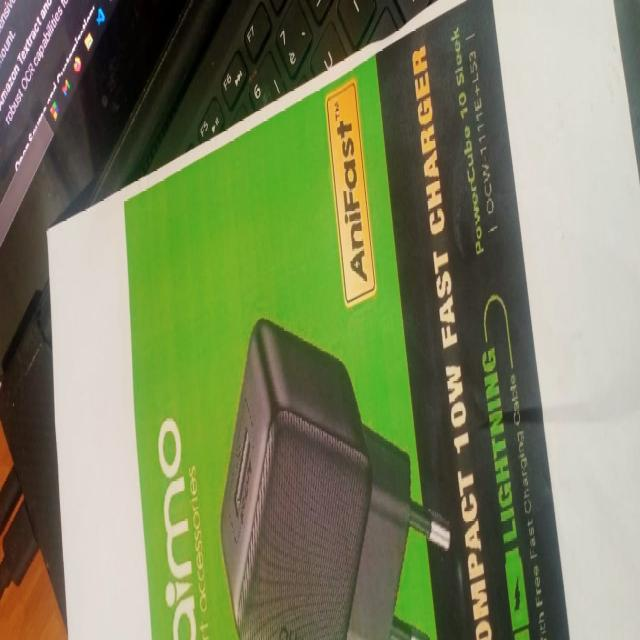PowerCube 10 Sleek OCW-1111ExL53: (435, 14, 504, 280)
